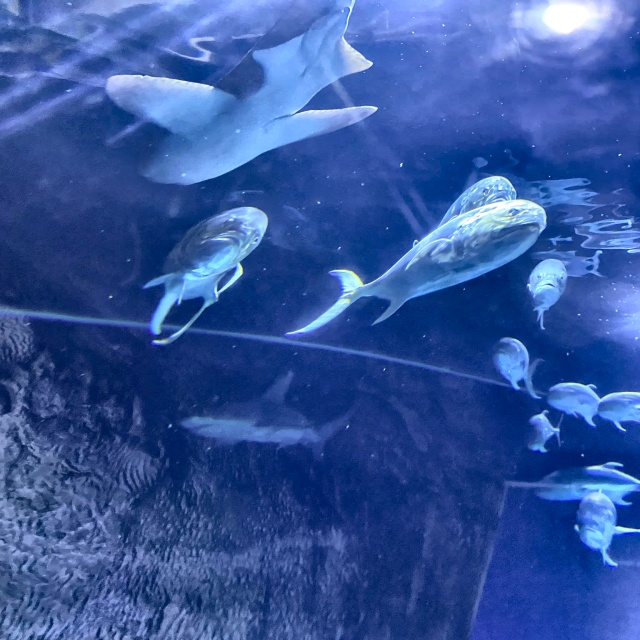fish: (289, 205, 550, 341), (125, 202, 275, 333), (404, 179, 529, 258), (520, 461, 639, 503), (565, 489, 628, 564), (487, 336, 539, 396), (543, 379, 612, 423), (520, 258, 562, 317), (590, 387, 639, 435), (509, 416, 564, 456)
shark: (110, 5, 388, 187), (179, 373, 358, 453)
